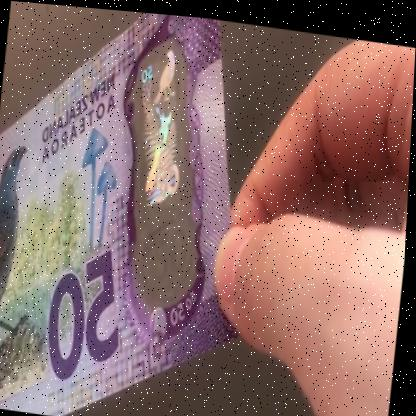50B: (118, 37, 211, 299)
